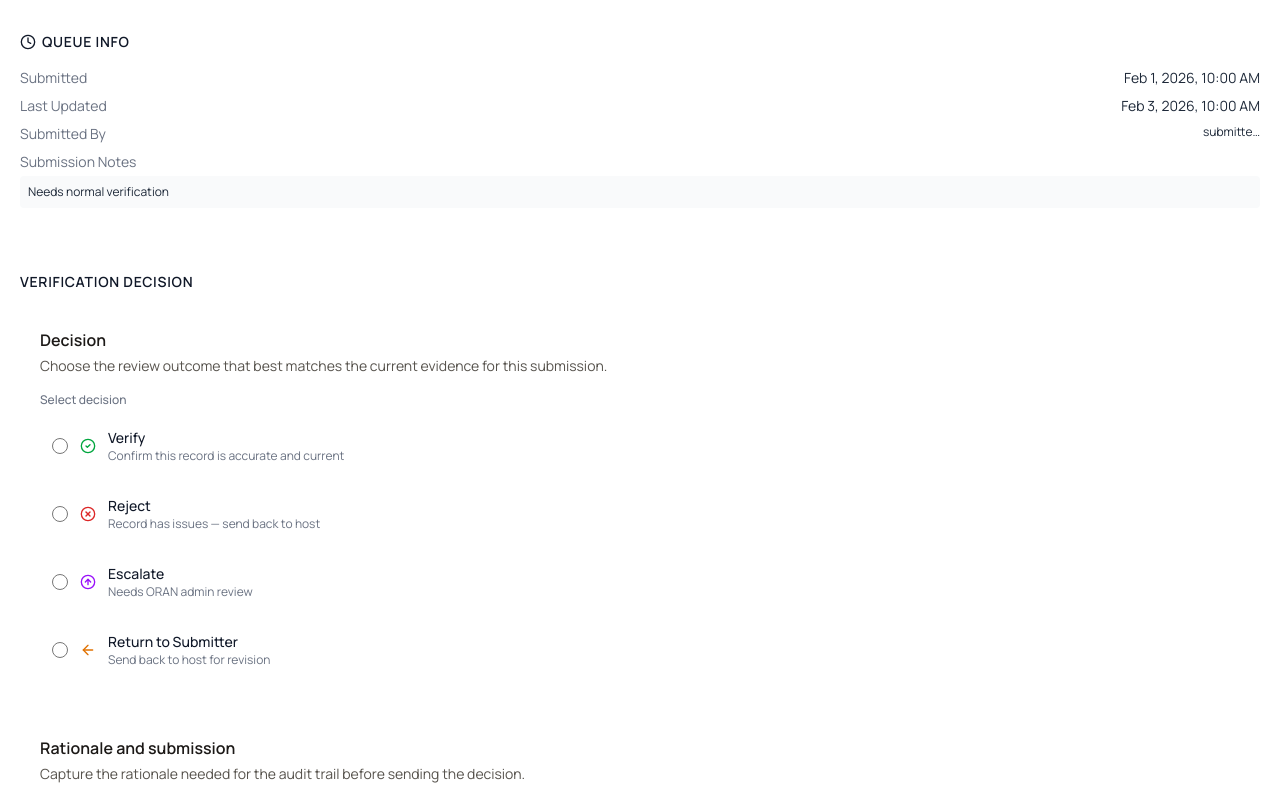
Test: community admin verify page › shows decision submission failures from the API
(page scrolled)
Click the radio button labelled "Verify Confirm this record is accurate and current": (60, 446) [52,438,68,454]
(page scrolled)
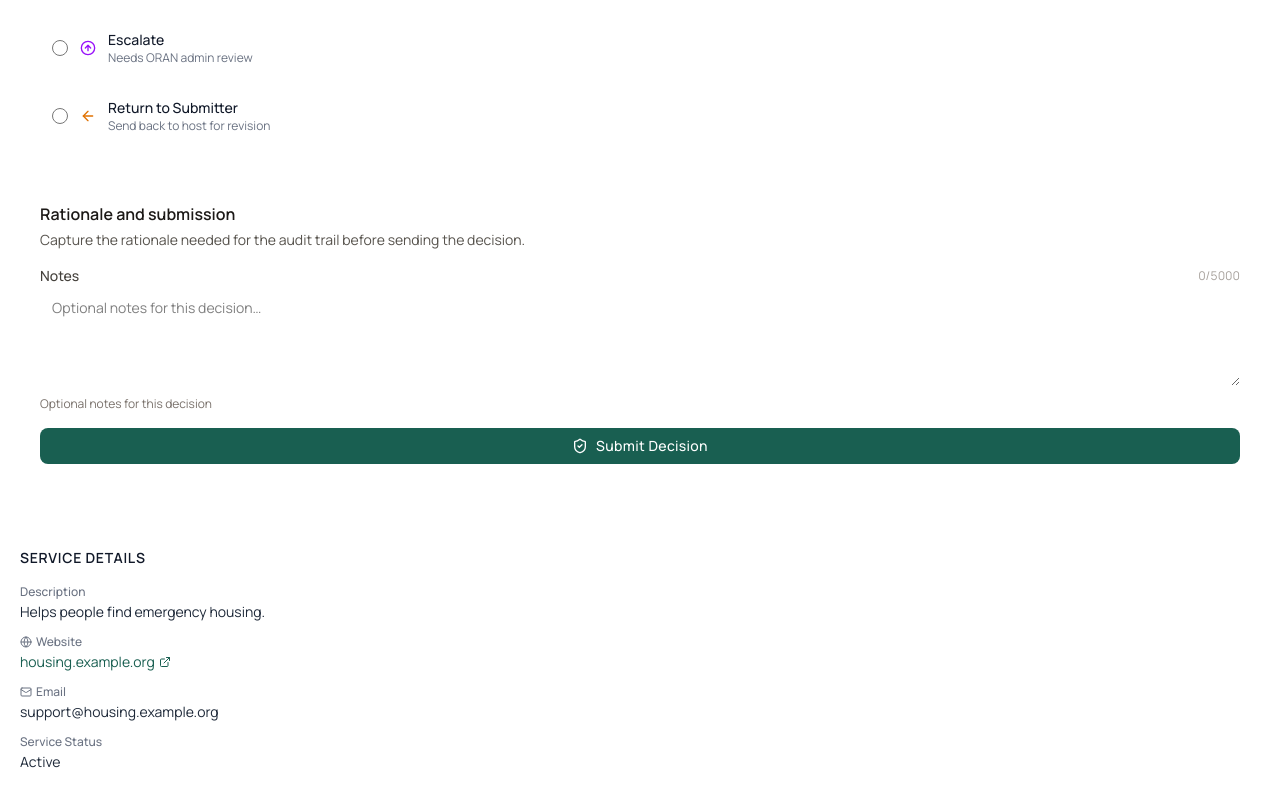
Click the button "Submit Decision": (640, 446) [40,428,1240,464]
(page scrolled)
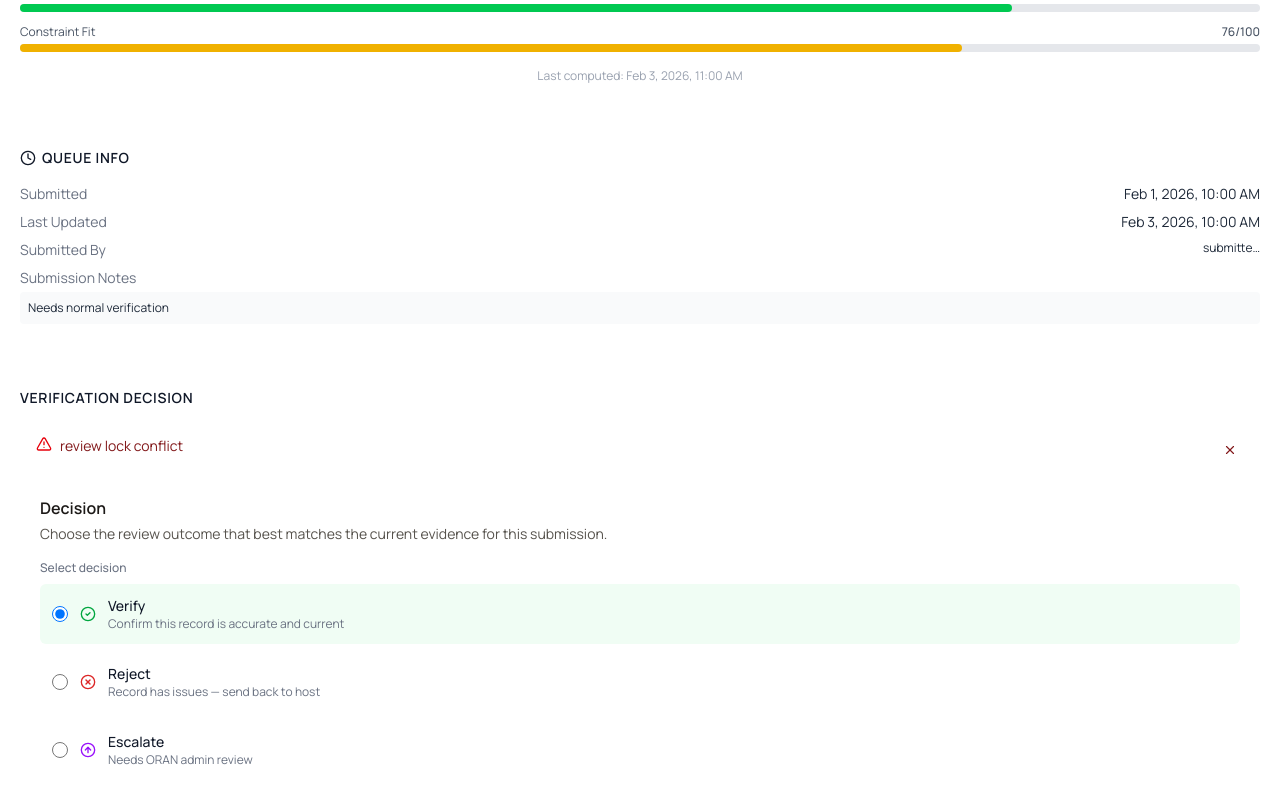
Result: the message "review lock conflict" is shown at [36,436,1244,464]
Result: the text "review lock conflict" is shown at [60,436,183,455]
